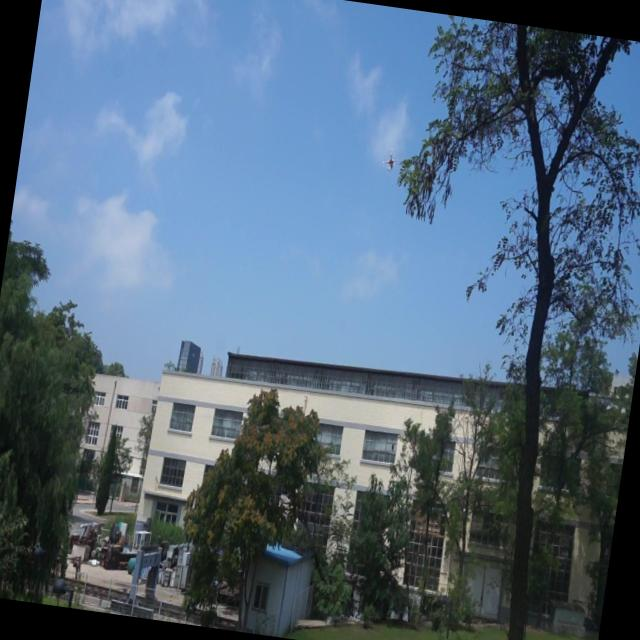drone: (379, 146, 402, 178)
